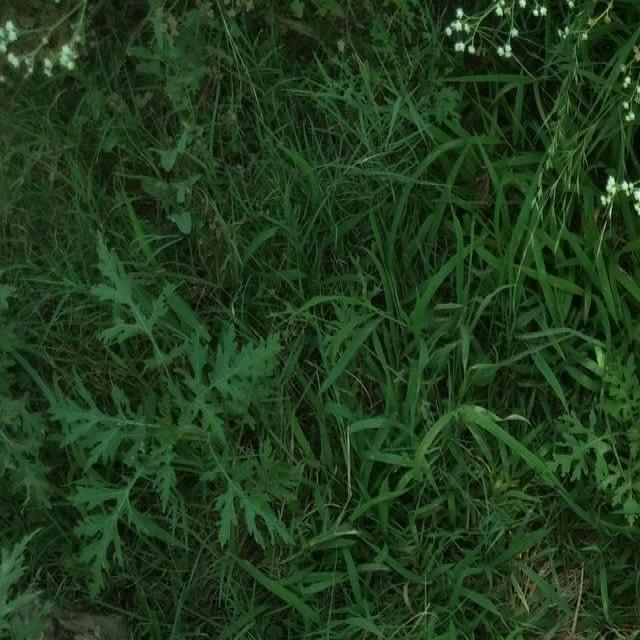weed: (306, 192, 540, 569), (65, 238, 295, 585), (448, 0, 640, 219), (551, 283, 640, 575)
